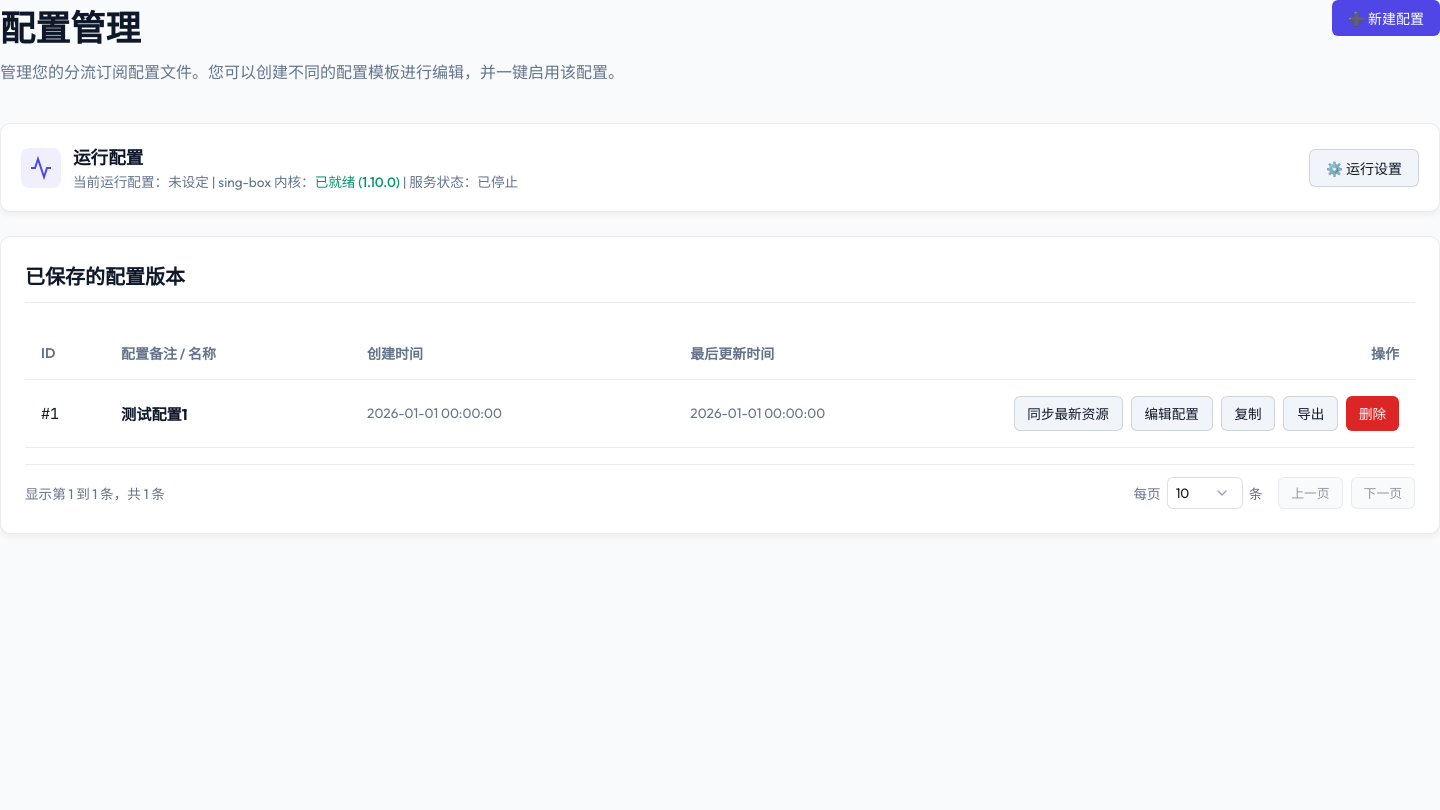
Test: ConfigEditorView - groupImportModal 交互 › 搜索框与清空按钮 › 搜索词大小写不敏感
Click the button "编辑配置" at {"x": 1172, "y": 413}, box x1=1131 y1=396 x2=1213 y2=431
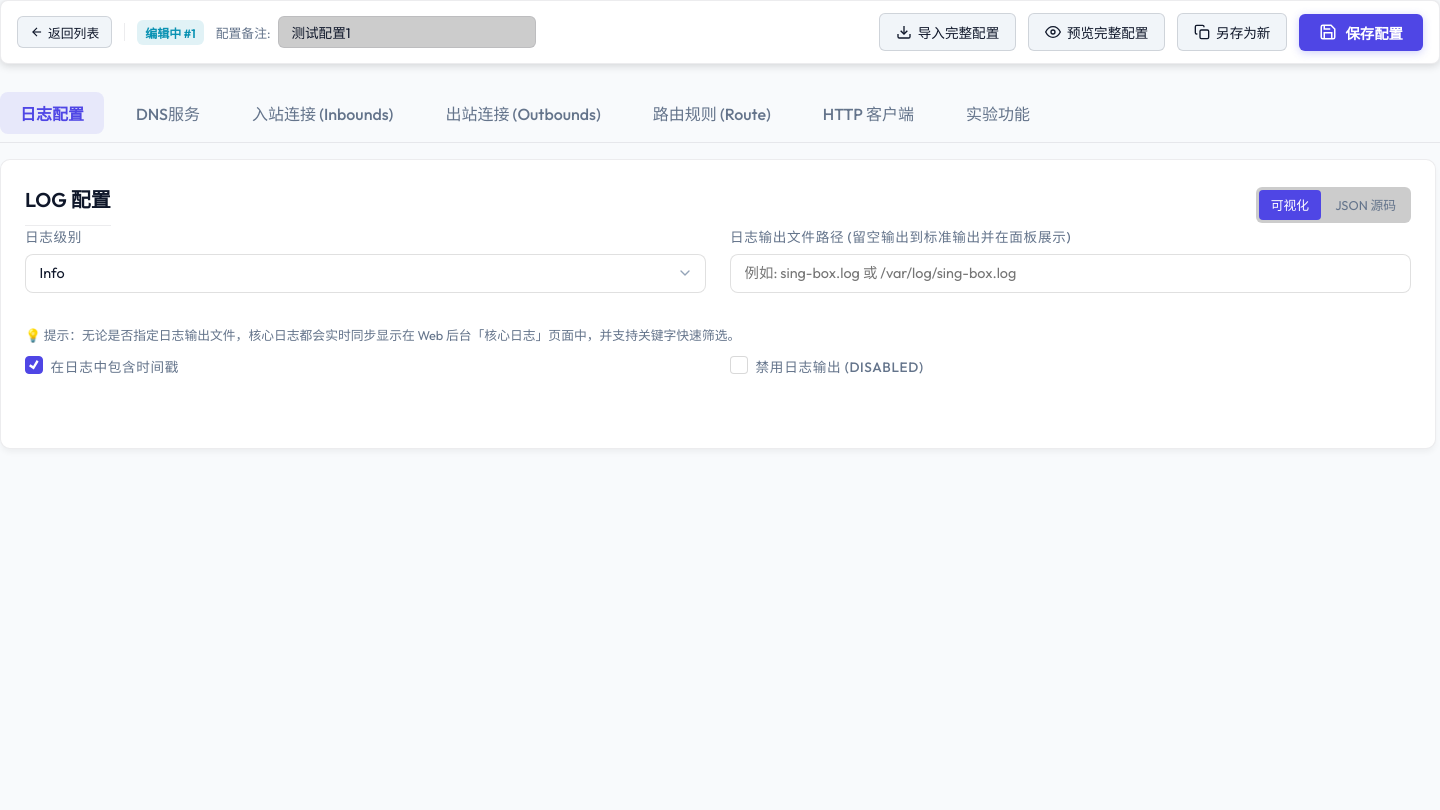
Click the text with class "tab" showing "出站连接 (Outbounds)" at {"x": 523, "y": 114}, box x1=445 y1=104 x2=601 y2=124
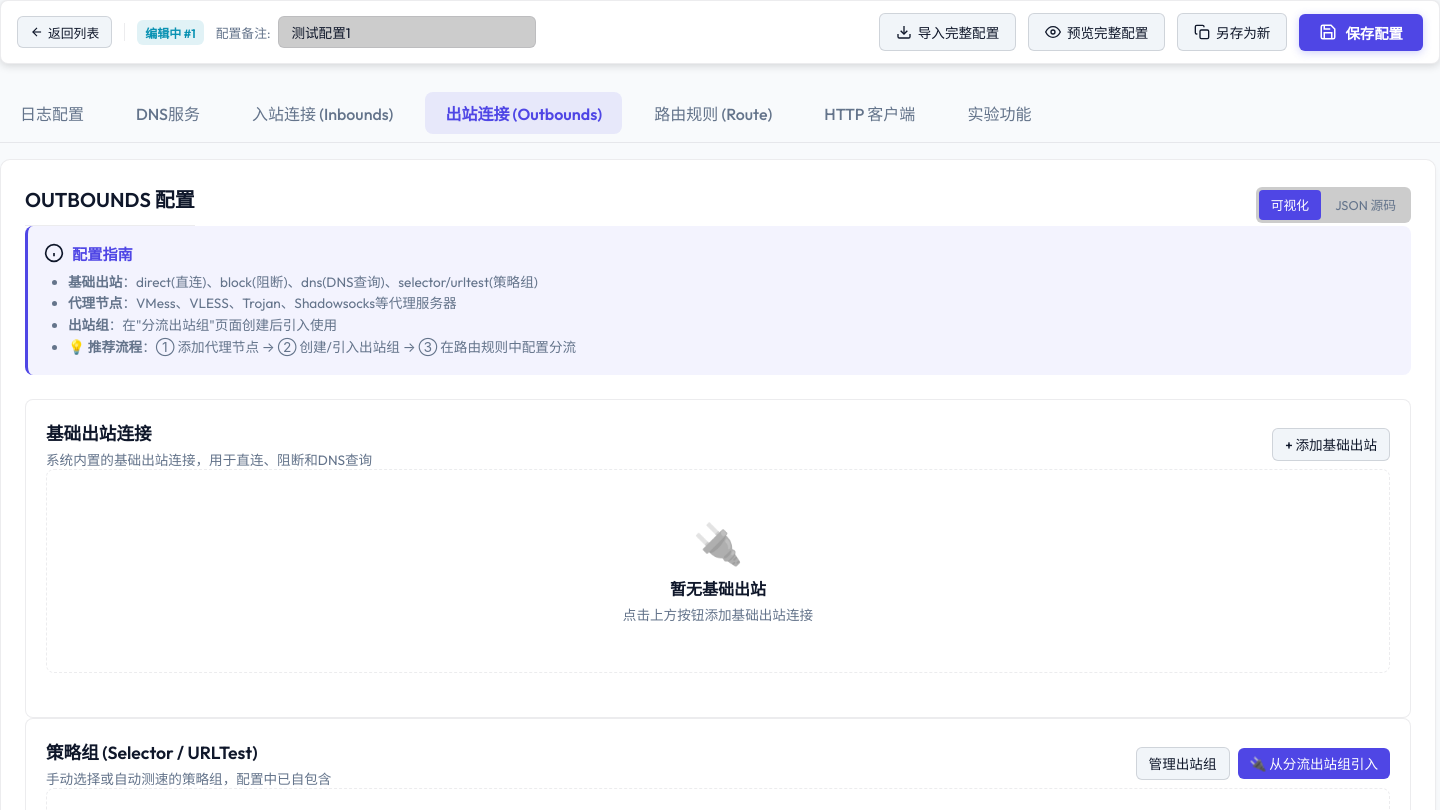
Click the button "🔌 从分流出站组引入" at {"x": 1314, "y": 763}, box x1=1238 y1=748 x2=1390 y2=779
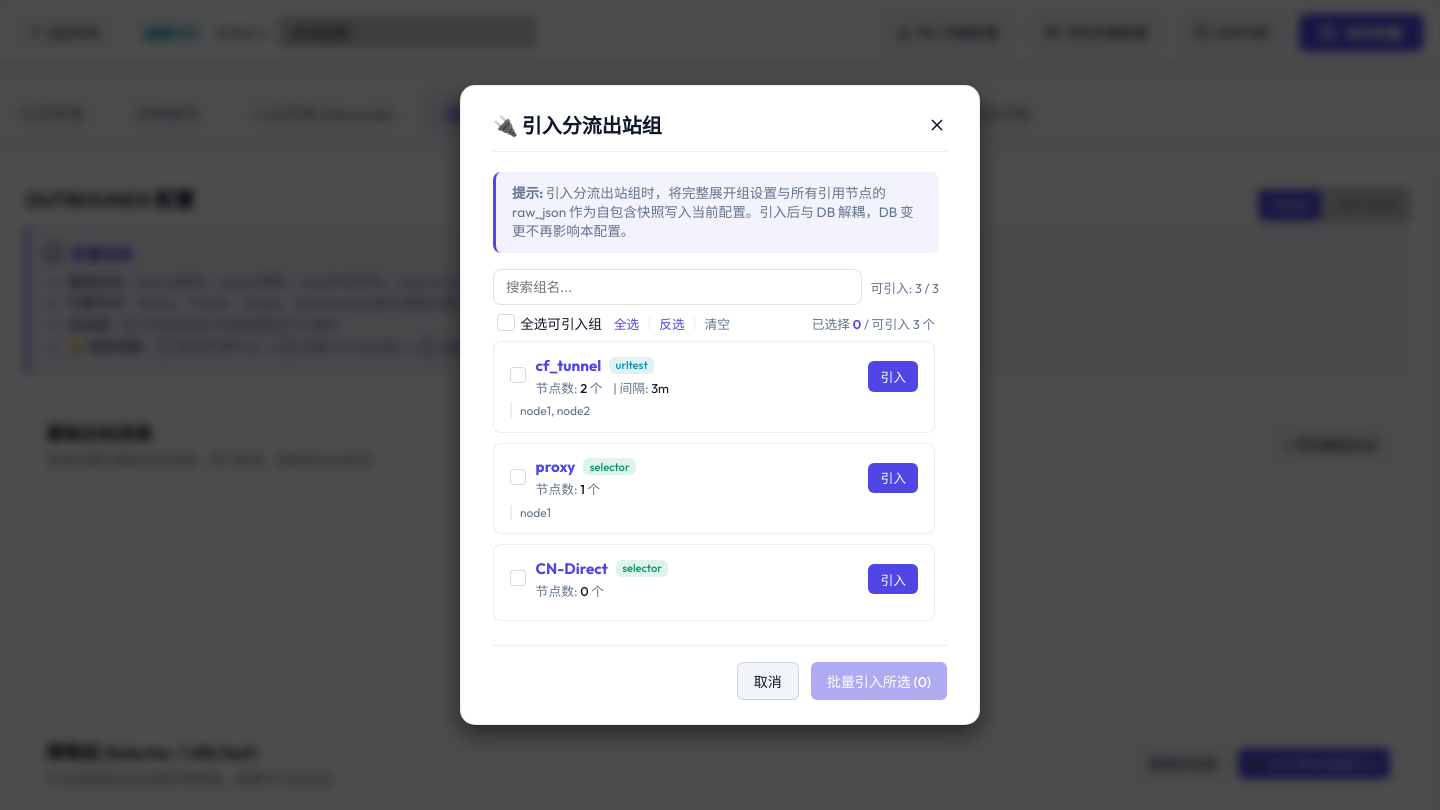
Type "CF" into the field with placeholder "搜索组名..." at {"x": 678, "y": 287}, box x1=493 y1=269 x2=862 y2=305
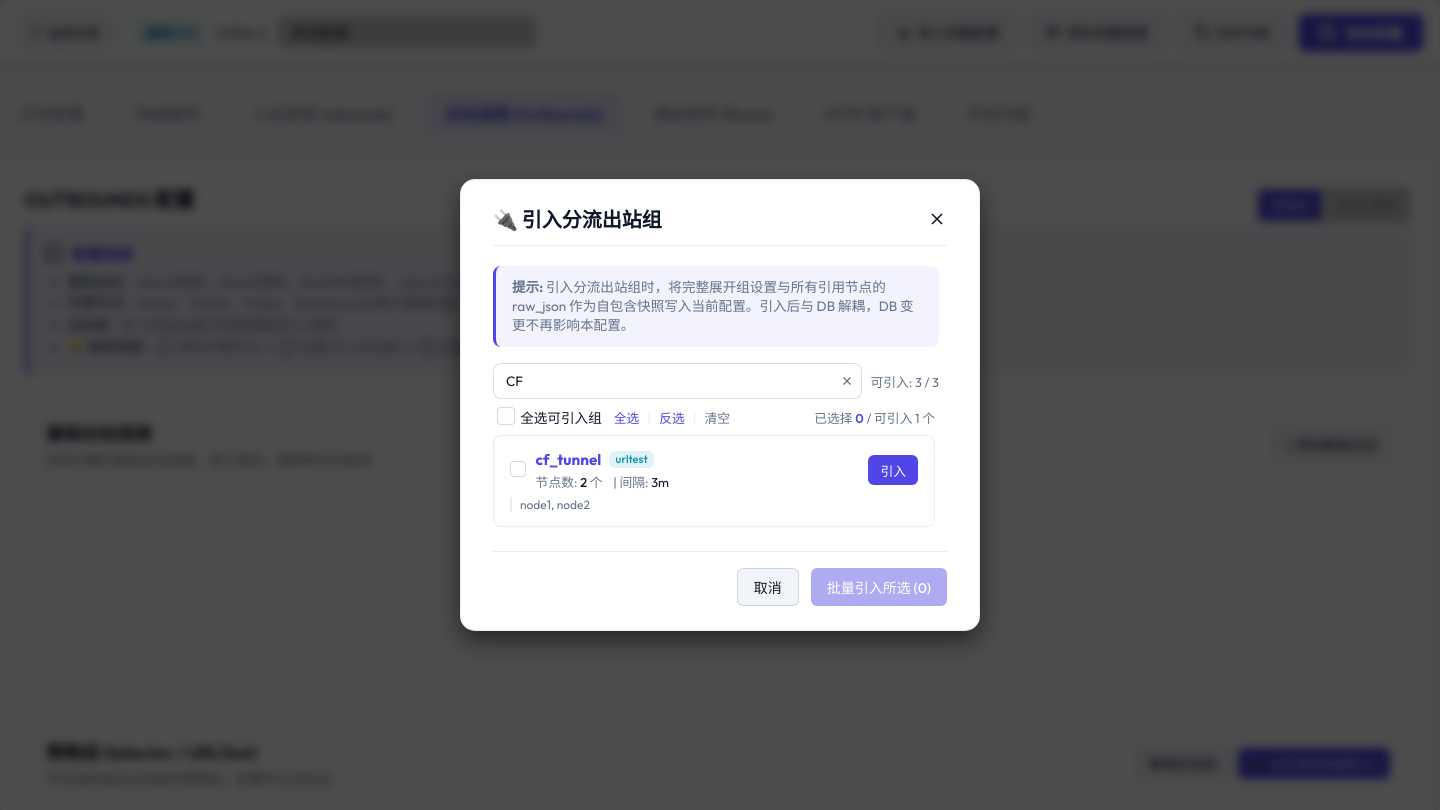
expect the text "cf_tunnel" is shown: met, box x1=536 y1=450 x2=601 y2=469
expect the text "proxy" is gone: met
